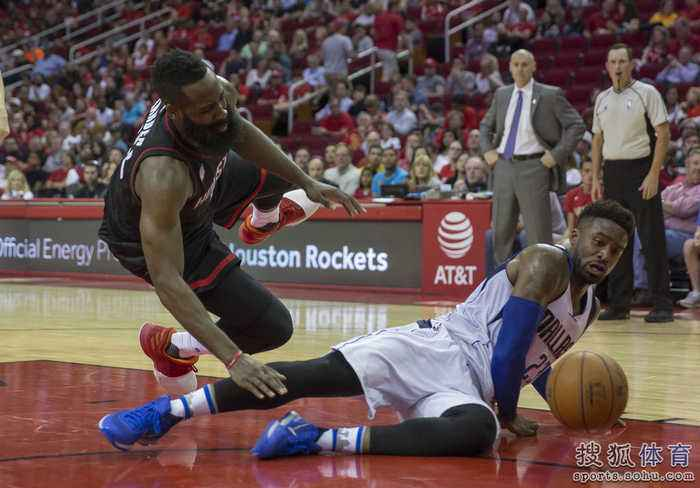10+: (1, 1, 700, 471)
down: (99, 201, 637, 469), (92, 52, 362, 417)
